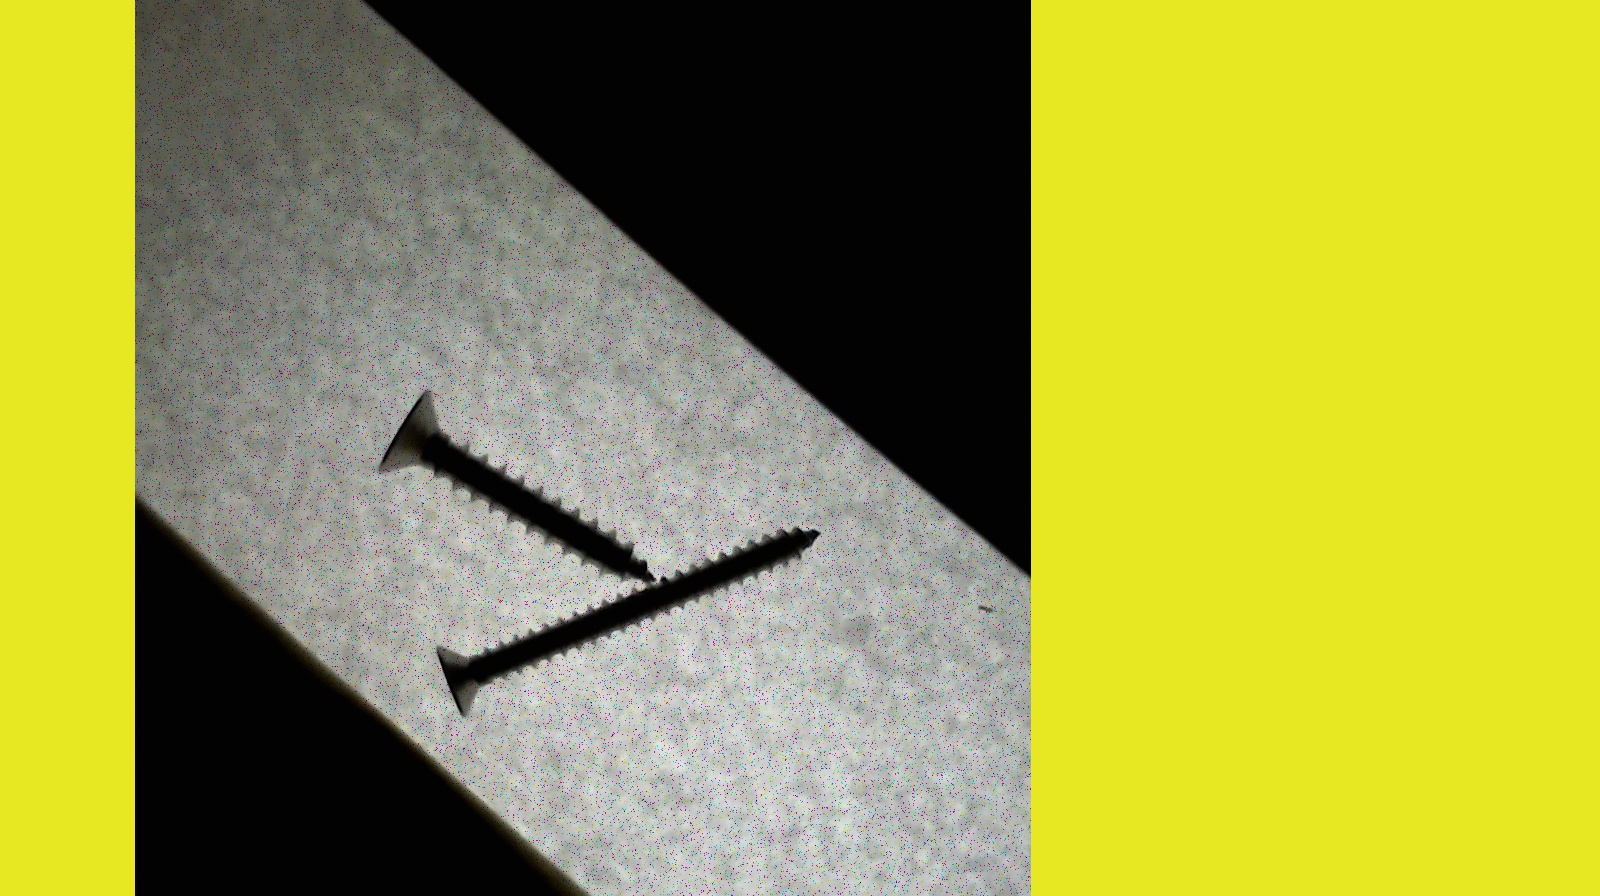S001: (376, 381, 659, 588)
S002: (427, 520, 822, 717)
